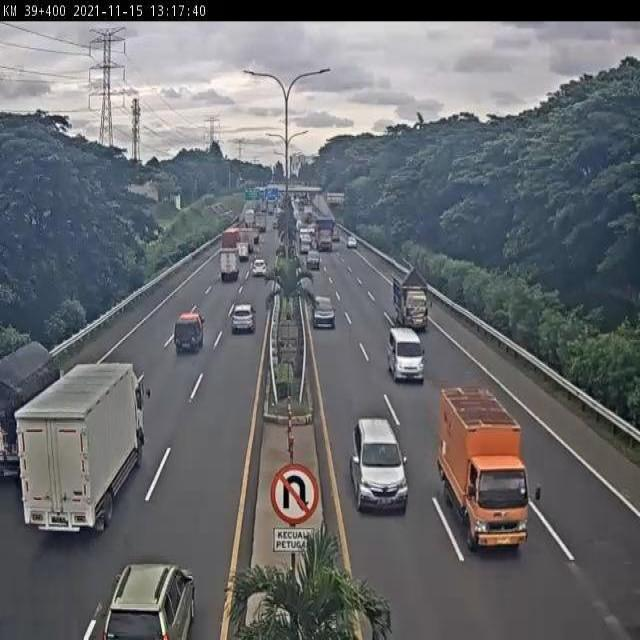Car: (100, 560, 197, 640), (350, 417, 408, 514), (311, 294, 337, 332), (230, 303, 256, 334), (306, 250, 321, 271), (252, 258, 266, 277), (347, 236, 357, 248), (332, 231, 340, 242), (296, 219, 303, 231), (272, 218, 278, 230), (269, 206, 274, 215)
Truck: (13, 361, 153, 539), (438, 386, 530, 550), (0, 338, 66, 479), (392, 267, 434, 330), (173, 310, 205, 356), (219, 247, 239, 283), (314, 216, 334, 251), (237, 228, 255, 253), (221, 226, 239, 248), (236, 241, 250, 263), (254, 212, 267, 232), (243, 209, 254, 229), (250, 225, 260, 243), (303, 206, 313, 223), (260, 198, 266, 212)
Van: (386, 326, 426, 386)
